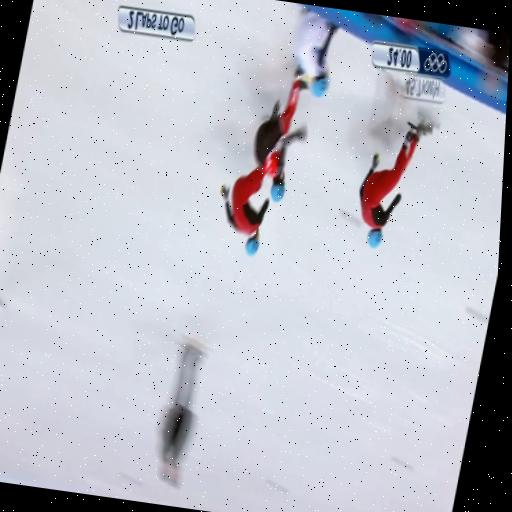Skater: (360, 122, 433, 247), (254, 72, 308, 201), (221, 167, 269, 255), (294, 7, 339, 97)
